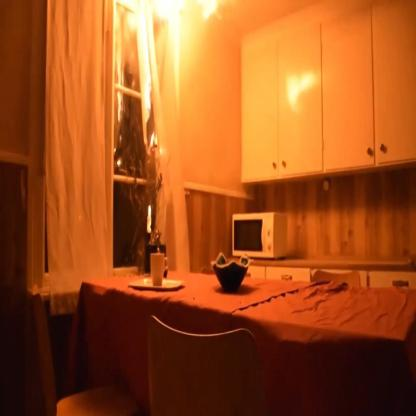fire: (126, 2, 224, 107), (148, 202, 152, 218)
